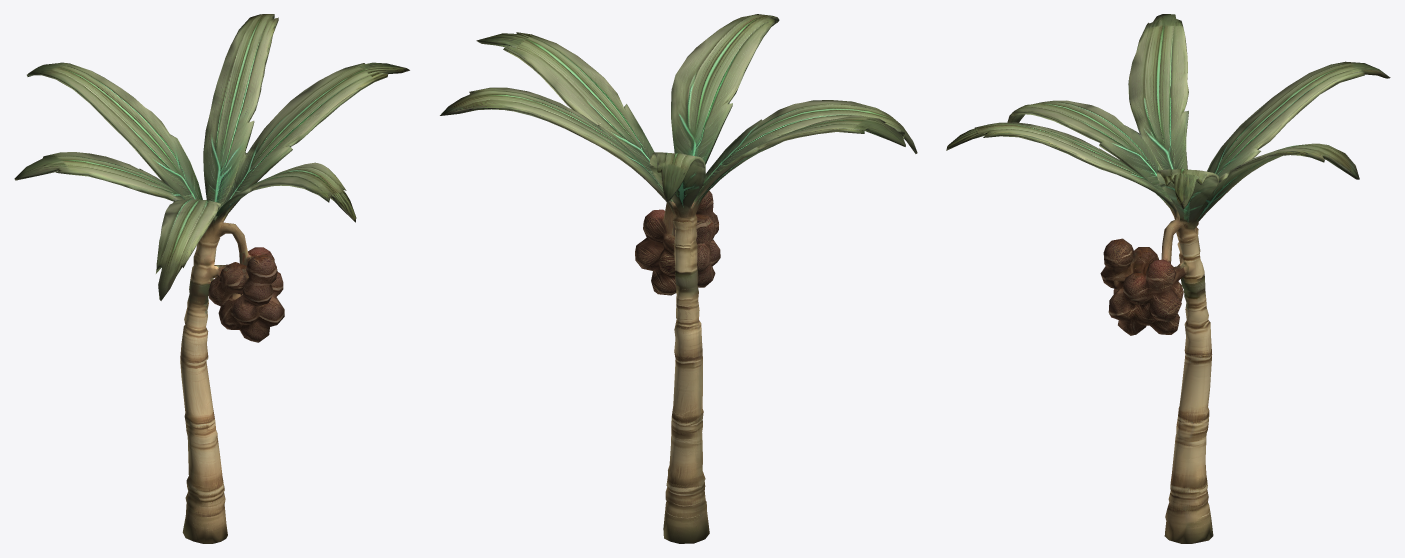
The picture shows the model from 3 angles, left to right: view 1: azimuth 30°, elevation 25°; view 2: azimuth 150°, elevation 25°; view 3: azimuth 270°, elevation 25°; orthographic projection. The views are drawn at different scales.
Visible parts, largest first — view 1: Mesh_0; view 2: Mesh_0; view 3: Mesh_0.
Boxes of the visible parts, left/top/right/bottom form: Mesh_0: left=14, top=14, right=409, bottom=543; Mesh_0: left=440, top=14, right=917, bottom=543; Mesh_0: left=946, top=14, right=1390, bottom=543.
Size of the model in its own units: 1.84 by 1.91 by 1.72.
Materials: 1 (1 with a texture image).
